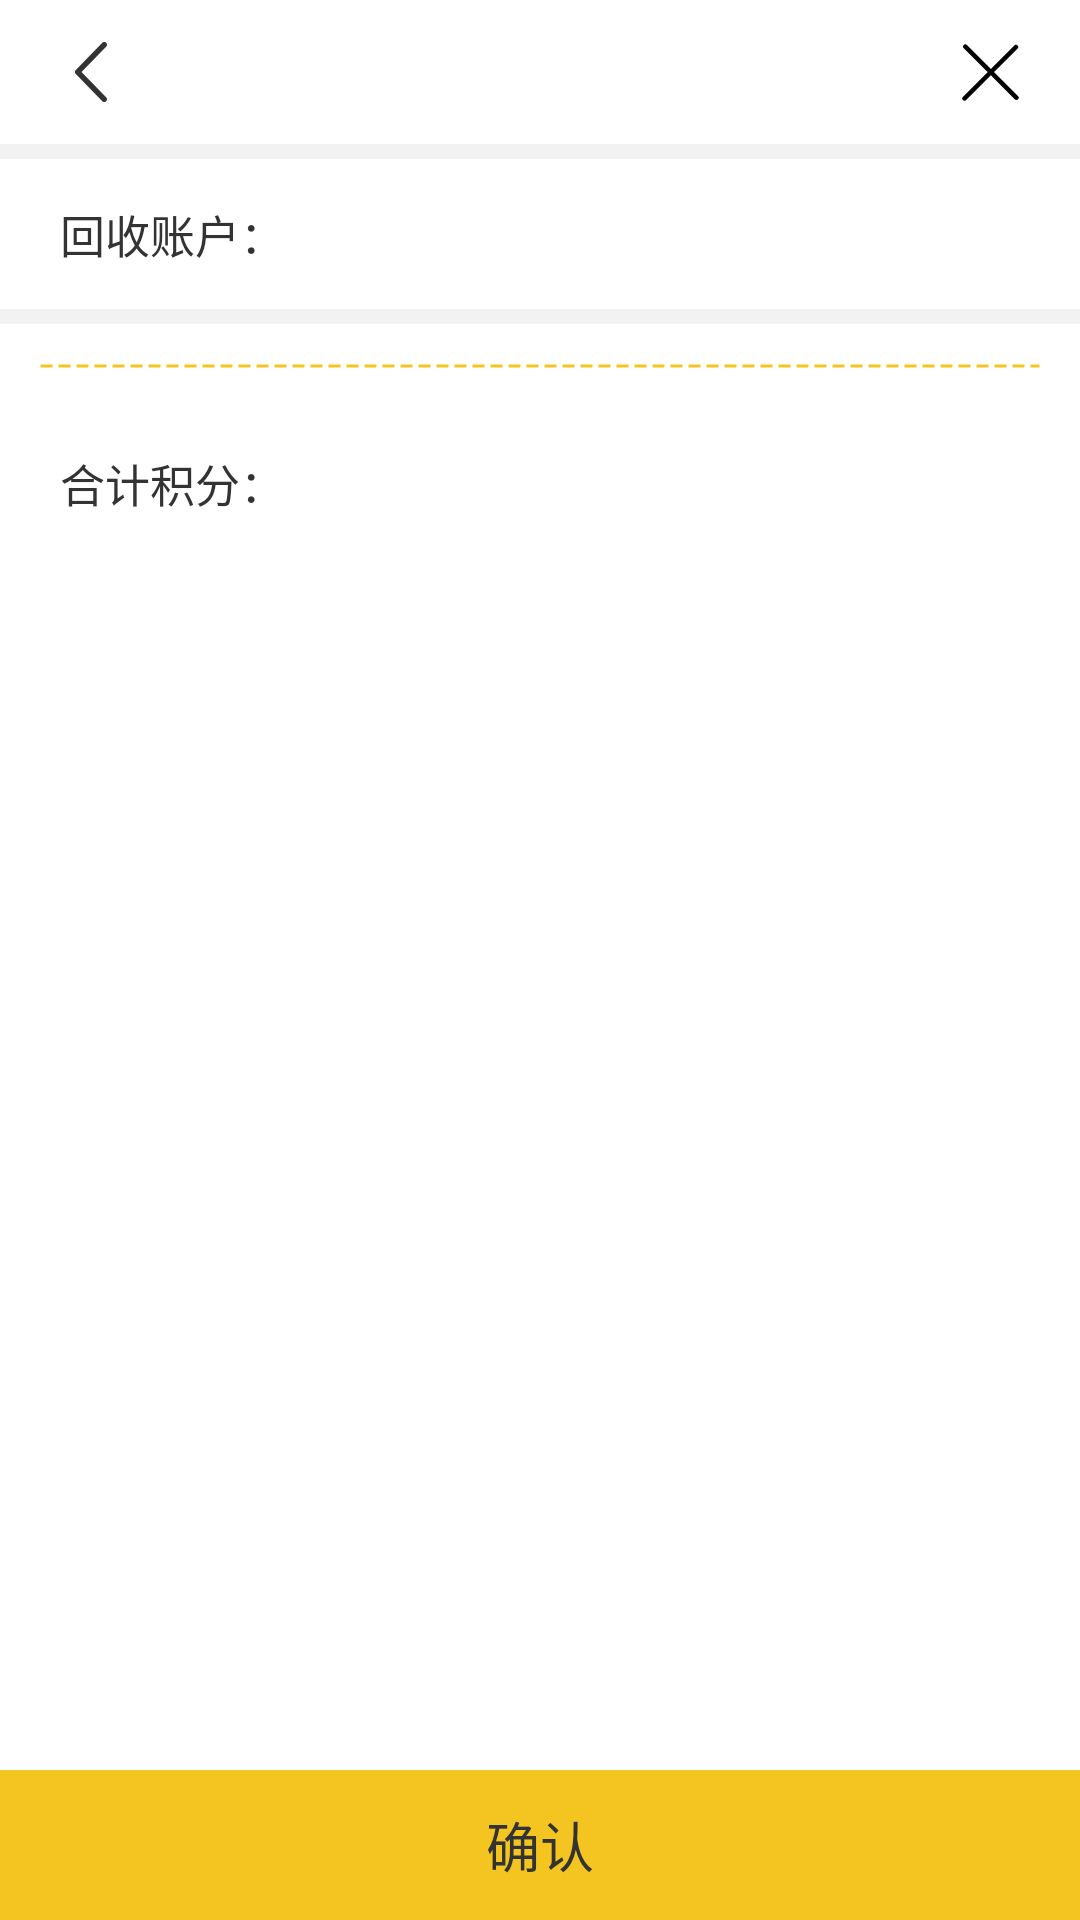

Named icons in this screenshot (1080 × 1920) and their centers, (x=x, y=y):
上一步: (x=91, y=72)
